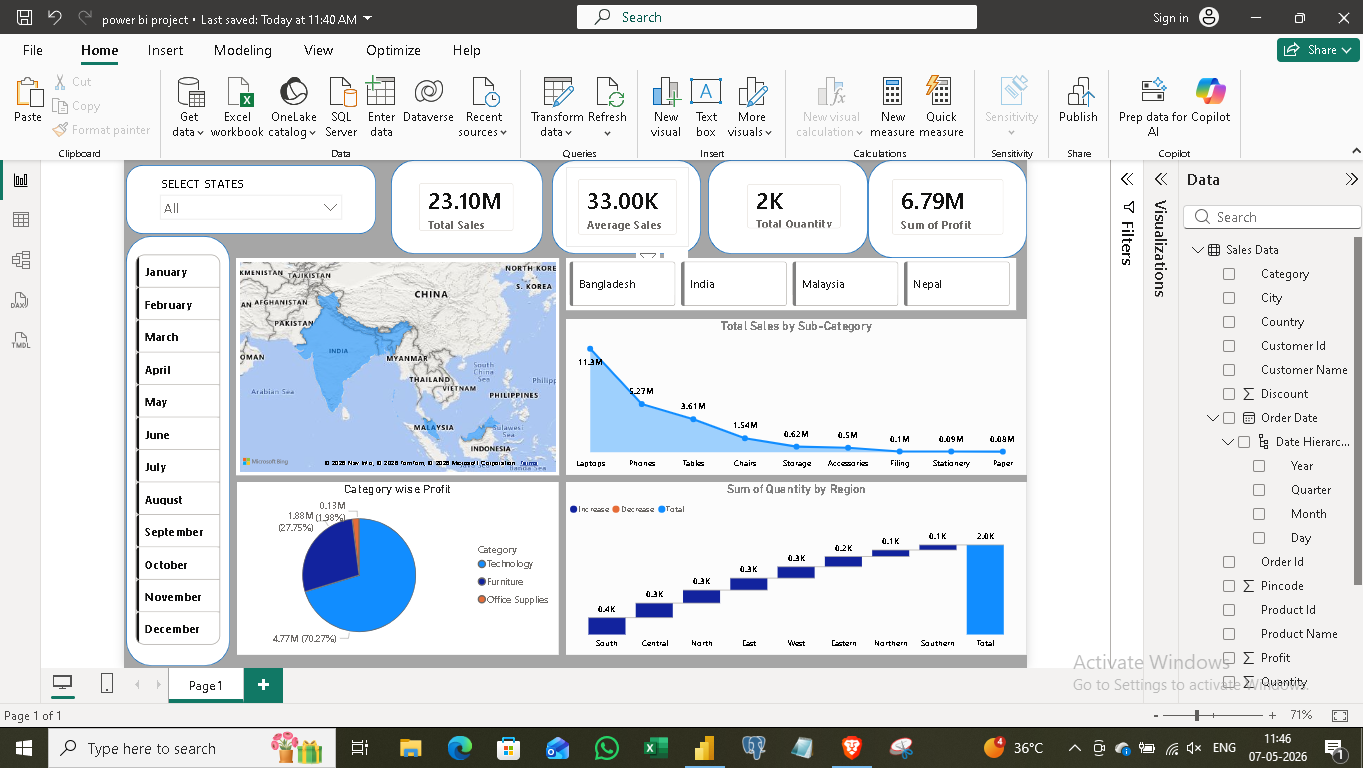

The page's visual inventory and layout, read from the dashboard file:
{"tool":"powerbi","page":{"name":"Page 1","canvas":[1280,720],"ordinal":0},"visuals":[{"type":"shape","box":[2.8,107.7,147.4,609.4],"z":0},{"type":"shape","box":[378.4,0,215.4,133.2],"z":1000},{"type":"shape","box":[827.7,0,226.8,133.2],"z":2000},{"type":"shape","box":[1054.5,0,225.4,138.9],"z":3000},{"type":"shape","box":[606.6,0,211.2,133.2],"z":4000},{"type":"lineChart","title":"Total Sales by Sub-Category","fields":{"Category":["Sales Data.Sub Category"],"Y":["Sum(Sales Data.Sales)"]},"box":[626.5,225.4,653.4,221.1],"z":5000},{"type":"filledMap","fields":{"Category":["Sales Data.Country","Sales Data.City"]},"box":[158.7,138.9,457.8,307.6],"z":6000},{"type":"cardVisual","fields":{"Data":["Sum(Sales Data.Sales)"]},"box":[401.1,15.6,168.7,102],"z":7000},{"type":"cardVisual","fields":{"Data":["Avg(Sales Data.Sales)"]},"box":[626.5,9.9,174.3,113.4],"z":8000},{"type":"cardVisual","fields":{"Data":["Sum(Sales Data.Quantity)"]},"box":[866,17,167.2,97.8],"z":9000},{"type":"cardVisual","fields":{"Data":["Sum(Sales Data.Profit)"]},"box":[1071.5,9.9,192.8,113.4],"z":10000},{"type":"waterfallChart","fields":{"Category":["Sales Data.Region"],"Y":["Sum(Sales Data.Quantity)"]},"box":[626.5,456.4,653.4,245.2],"z":11000},{"type":"pieChart","title":"Category wise Profit","fields":{"Y":["Sum(Sales Data.Profit)"],"Category":["Sales Data.Category"]},"box":[160.2,456.4,456.4,245.2],"z":12000},{"type":"advancedSlicerVisual","fields":{"Values":["Sales Data.Country"]},"box":[626.5,138.9,637.8,73.7],"z":13000},{"type":"shape","box":[2.8,7.1,354.3,97.8],"z":14000},{"type":"slicer","fields":{"Values":["Sales Data.State"]},"box":[41.1,18.4,277.8,75.1],"z":15000},{"type":"advancedSlicerVisual","fields":{"Values":["Sales Data.Order Date.Variation.Date Hierarchy.Month"]},"box":[11.3,129,130.4,565.5],"z":16000}]}

Visuals, with their boxes on the page's 1280x720 design canvas (x1, y1, x2, y2). These are canvas units, not pixel positions in the 1363x768 screenshot, which may show the page scaled, cropped or inside an application window:
shape: rect(3, 108, 150, 717)
shape: rect(378, 0, 594, 133)
shape: rect(828, 0, 1054, 133)
shape: rect(1054, 0, 1280, 139)
shape: rect(607, 0, 818, 133)
"Total Sales by Sub-Category" lineChart: rect(626, 225, 1280, 446)
filledMap - Sales Data.Country x Sales Data.City: rect(159, 139, 616, 446)
cardVisual - Sum(Sales Data.Sales): rect(401, 16, 570, 118)
cardVisual - Avg(Sales Data.Sales): rect(626, 10, 801, 123)
cardVisual - Sum(Sales Data.Quantity): rect(866, 17, 1033, 115)
cardVisual - Sum(Sales Data.Profit): rect(1072, 10, 1264, 123)
waterfallChart - Sales Data.Region x Sum(Sales Data.Quantity): rect(626, 456, 1280, 702)
"Category wise Profit" pieChart: rect(160, 456, 617, 702)
advancedSlicerVisual - Sales Data.Country: rect(626, 139, 1264, 213)
shape: rect(3, 7, 357, 105)
slicer - Sales Data.State: rect(41, 18, 319, 94)
advancedSlicerVisual - Sales Data.Order Date.Variation.Date Hierarchy.Month: rect(11, 129, 142, 694)
